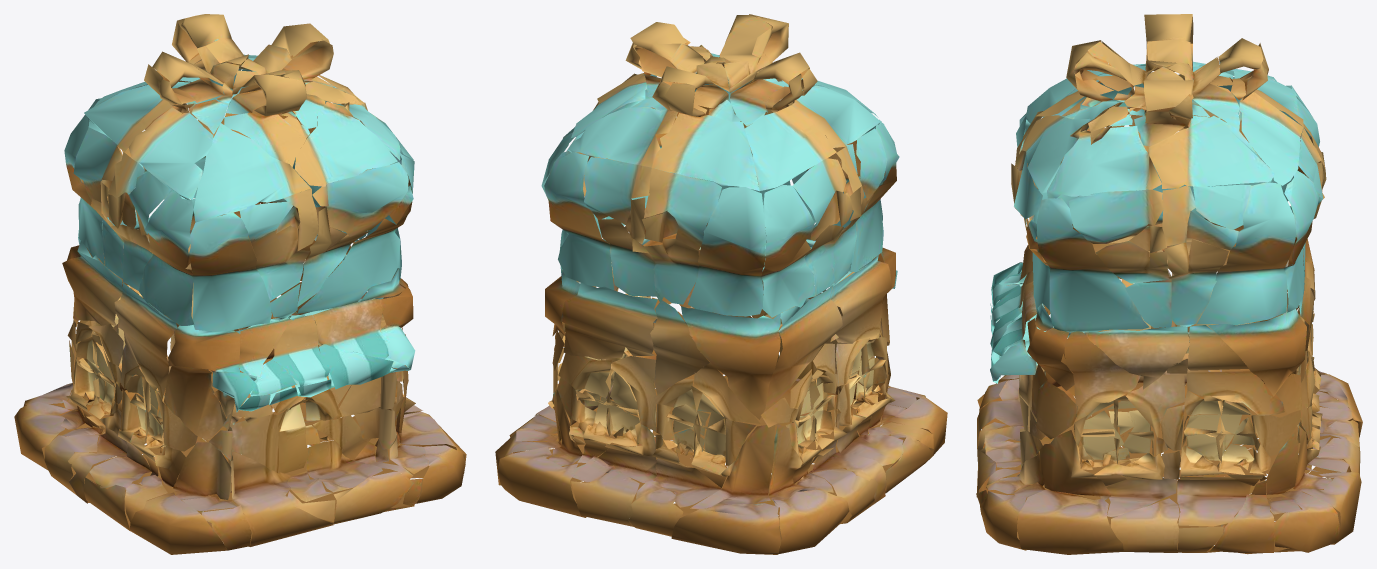
The model's file is galeries-boutique.glb.
3 views of the same model, side by side, from view 1: azimuth 30°, elevation 25°; view 2: azimuth 150°, elevation 25°; view 3: azimuth 270°, elevation 25° (orthographic). The views are drawn at different scales.
Visible parts, largest first — view 1: Mesh_0; view 2: Mesh_0; view 3: Mesh_0.
Part boxes in pixels (x1,y1,x2,y2): Mesh_0: (14, 14, 466, 554); Mesh_0: (495, 14, 947, 554); Mesh_0: (976, 14, 1362, 554).
Bounding box in the file's own units: 1.54 × 1.91 × 1.55.
Materials: 1 (1 with a texture image).
